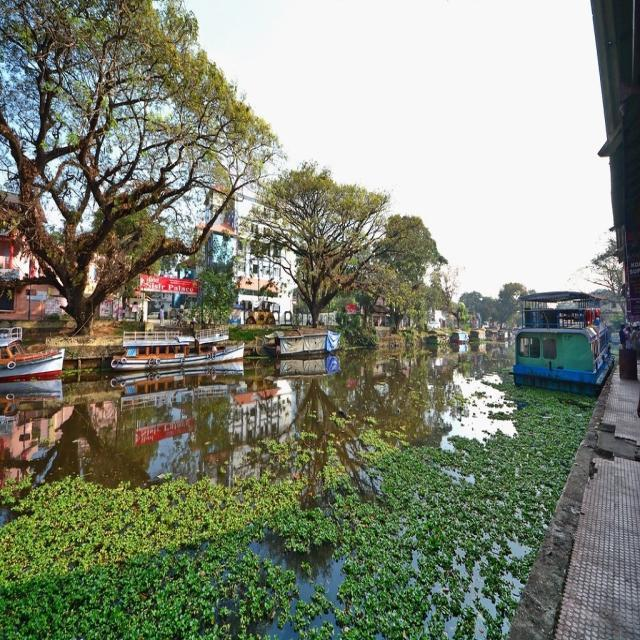Hyacinth: (269, 418, 503, 640), (3, 466, 287, 640), (475, 394, 585, 508)
boat: (511, 279, 614, 394), (110, 334, 185, 374), (181, 333, 247, 371)
